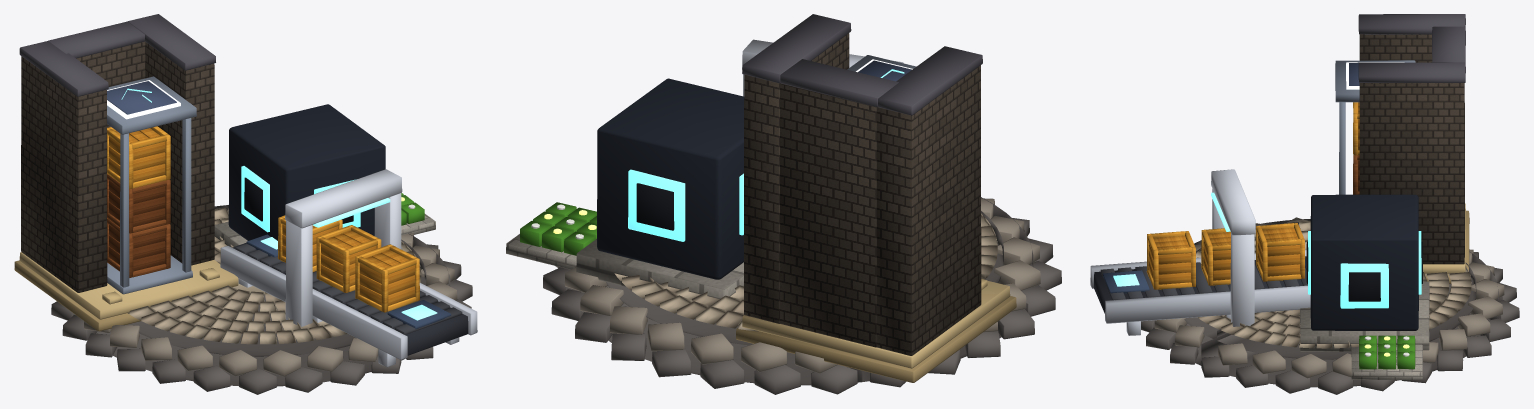
The model's file is developer_island.glb.
3 views of the same model, side by side, from view 1: azimuth 30°, elevation 25°; view 2: azimuth 150°, elevation 25°; view 3: azimuth 270°, elevation 25° (orthographic). The views are drawn at different scales.
Visible parts, largest first — view 1: BrickWallLeft, BlackCube, BrickWallRight, SideRail_-1, BaseUpper, GateHeader, GatePillar_-1, UpperDeck2, CopingLeft, CopingRight, CopingBack, BrickWallBack (+33 smaller); view 2: BrickWallLeft, BrickWallBack, BlackCube, BrickWallRight, BaseLower, BaseUpper, StonePlinth, CopingLeft, CopingRight, CopingBack, OuterGlowRing3, UpperDeck (+29 smaller); view 3: BrickWallRight, BlackCube, SideRail_1, StonePlinth, CopingRight, GatePillar_1, BrickWallLeft, CopingLeft, GateHeader, UpperDeck, CoreBase, OuterGlowRing2 (+26 smaller).
Part boxes in pixels (box(x1,y1,x2,y2)): BrickWallLeft: box(21, 56, 107, 292); BlackCube: box(228, 104, 385, 240); BrickWallRight: box(145, 42, 214, 265); SideRail_-1: box(220, 245, 407, 359); BaseUpper: box(19, 252, 238, 319); GateHeader: box(285, 169, 402, 228); GatePillar_-1: box(285, 221, 312, 326); UpperDeck2: box(125, 294, 356, 356); CopingLeft: box(19, 41, 108, 96); CopingRight: box(127, 14, 215, 70); CopingBack: box(48, 21, 144, 58); BrickWallBack: box(76, 41, 145, 127); BrickWallLeft: box(876, 65, 981, 355); BrickWallBack: box(780, 83, 876, 347); BlackCube: box(597, 78, 744, 279); BrickWallRight: box(744, 33, 849, 323); BaseLower: box(736, 296, 1016, 382); BaseUpper: box(742, 280, 1010, 368); StonePlinth: box(576, 239, 743, 298); CopingLeft: box(878, 46, 982, 115); CopingRight: box(742, 14, 851, 83); CopingBack: box(780, 59, 898, 107); OuterGlowRing3: box(628, 169, 685, 241); UpperDeck: box(606, 282, 752, 345); BrickWallRight: box(1359, 83, 1464, 264); BlackCube: box(1310, 194, 1418, 330); SideRail_1: box(1105, 285, 1310, 323); StonePlinth: box(1300, 281, 1429, 351); CopingRight: box(1358, 62, 1465, 82); GatePillar_1: box(1230, 233, 1254, 326); BrickWallLeft: box(1359, 34, 1464, 114); CopingLeft: box(1358, 14, 1465, 34); GateHeader: box(1211, 169, 1255, 235); UpperDeck: box(1217, 262, 1476, 359); CoreBase: box(1201, 251, 1498, 387); OuterGlowRing2: box(1340, 263, 1388, 308).
Bounding box in the file's own units: 4.43 × 2.78 × 4.8.
Materials: 34 (9 with a texture image).
